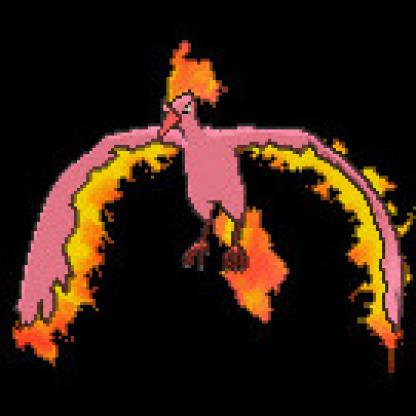Moltres: (13, 38, 414, 392)
